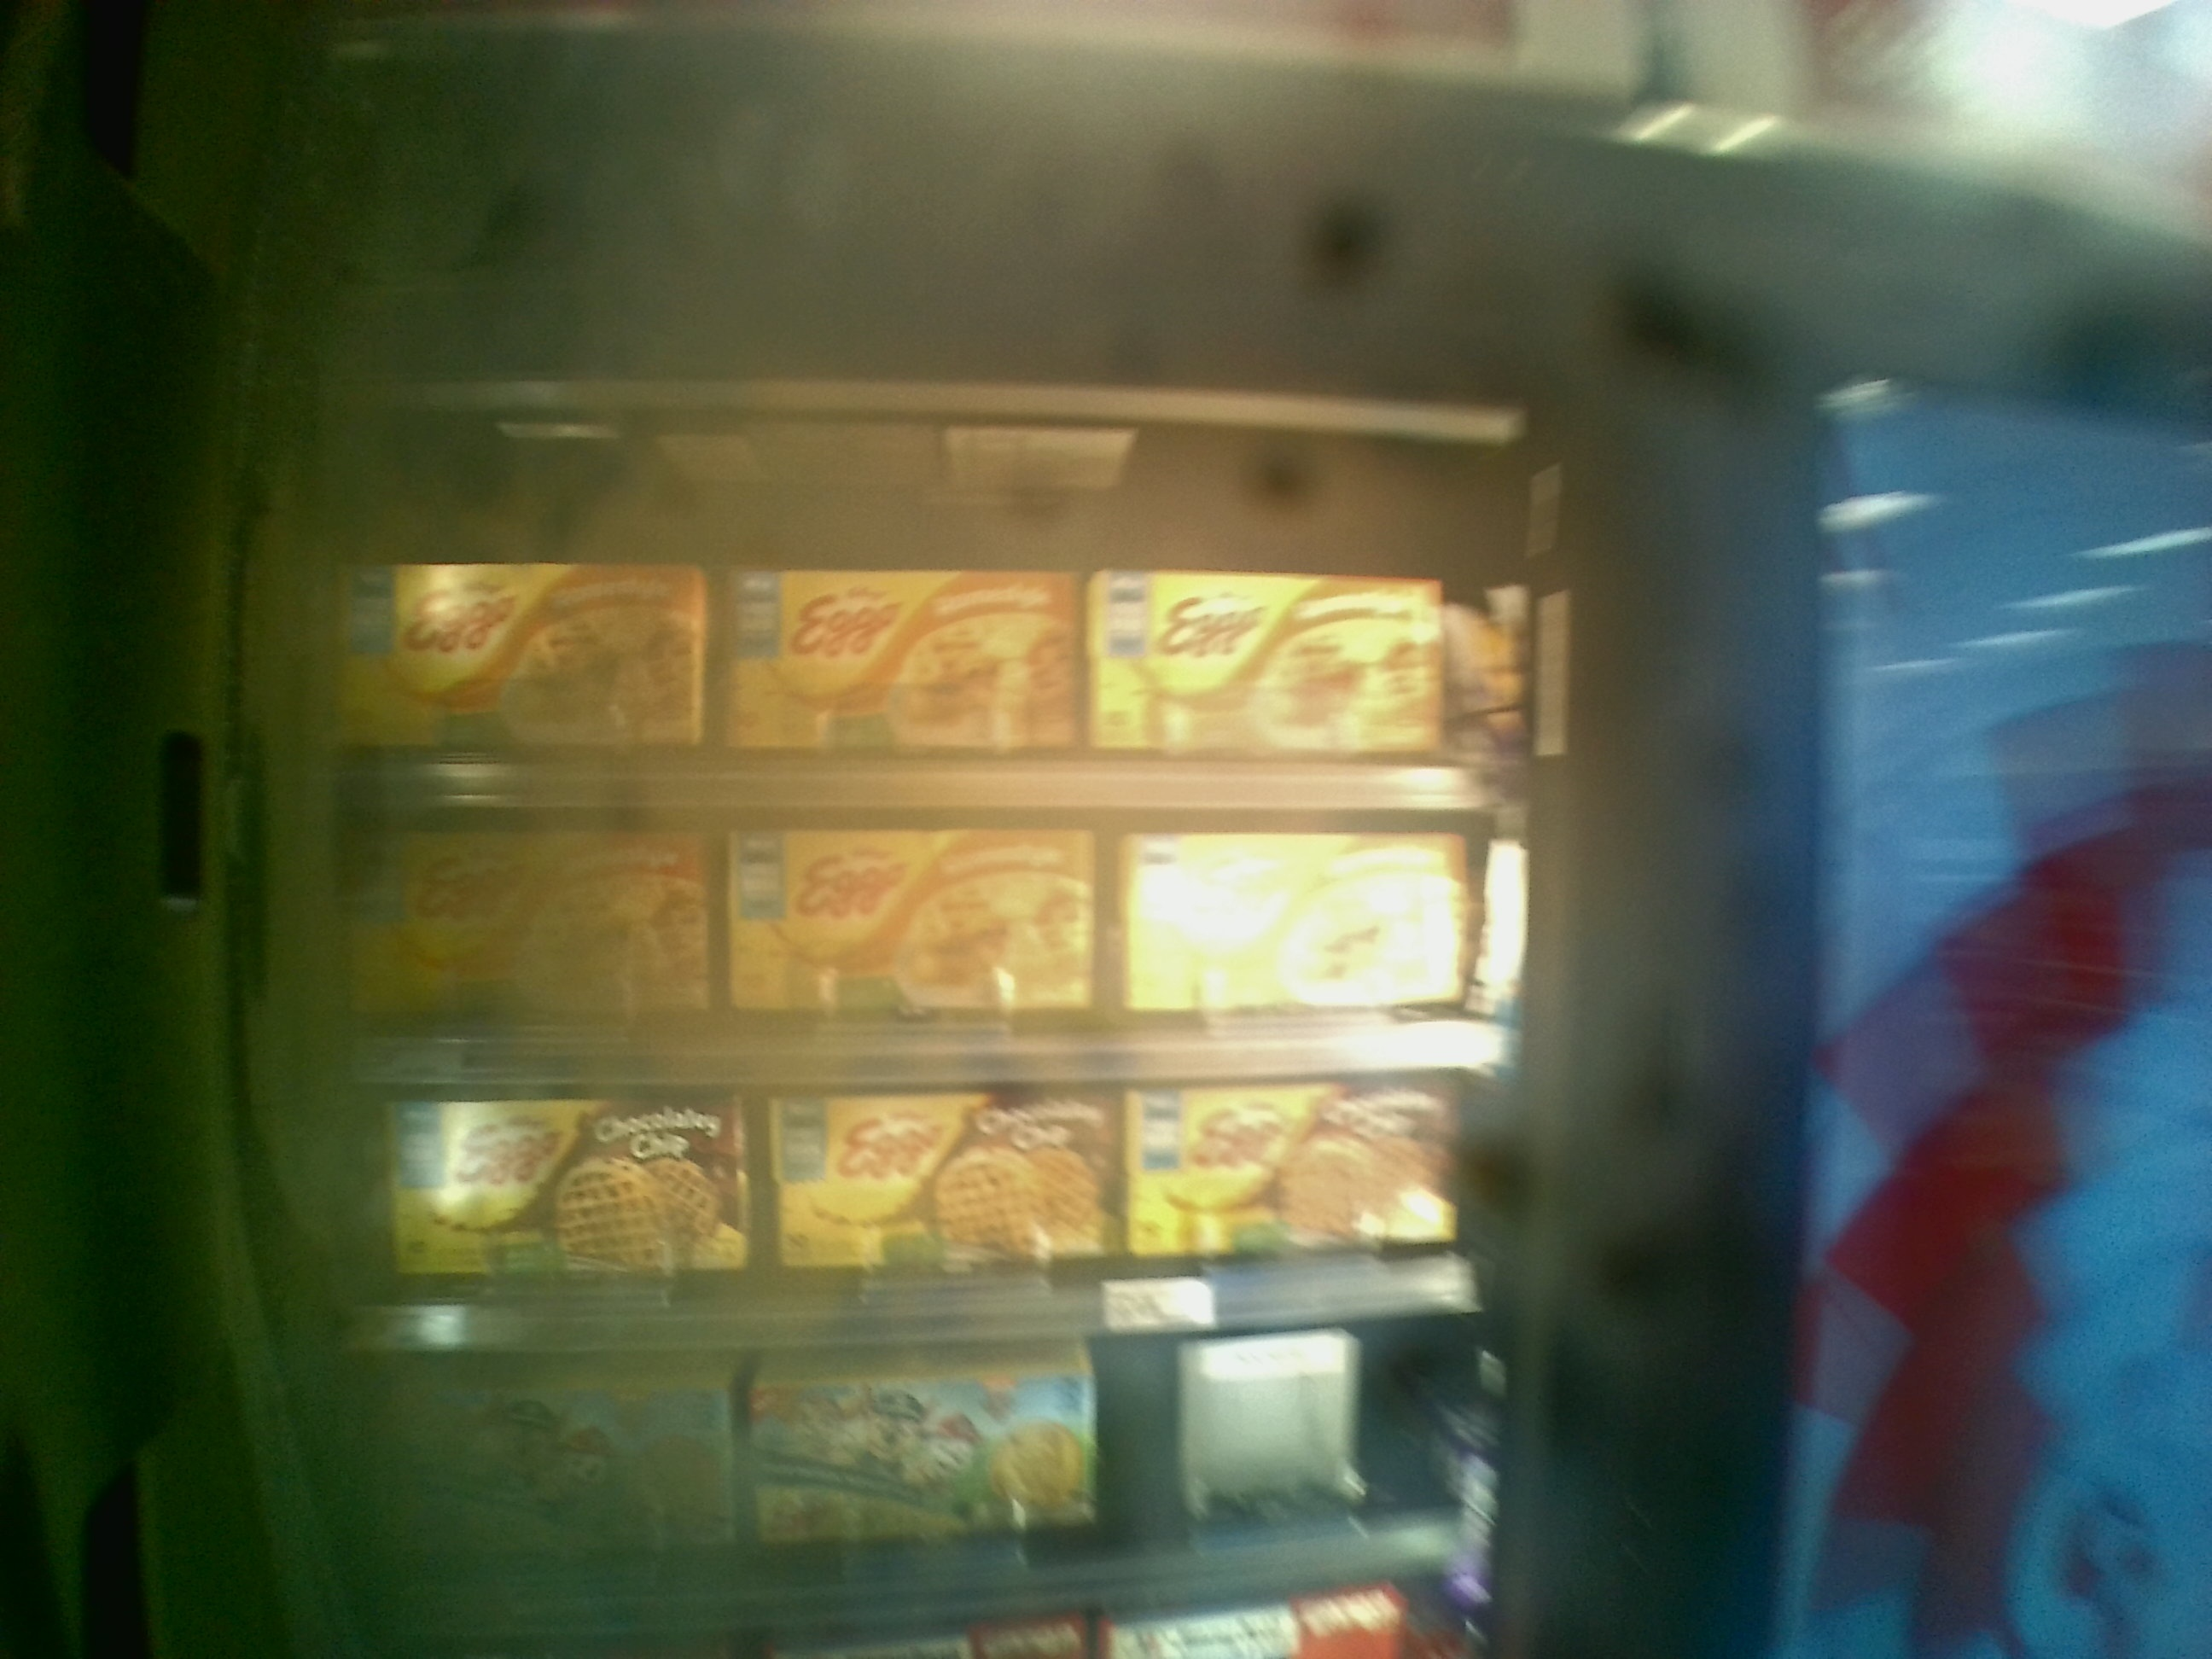shelf: (301, 387, 1510, 812)
